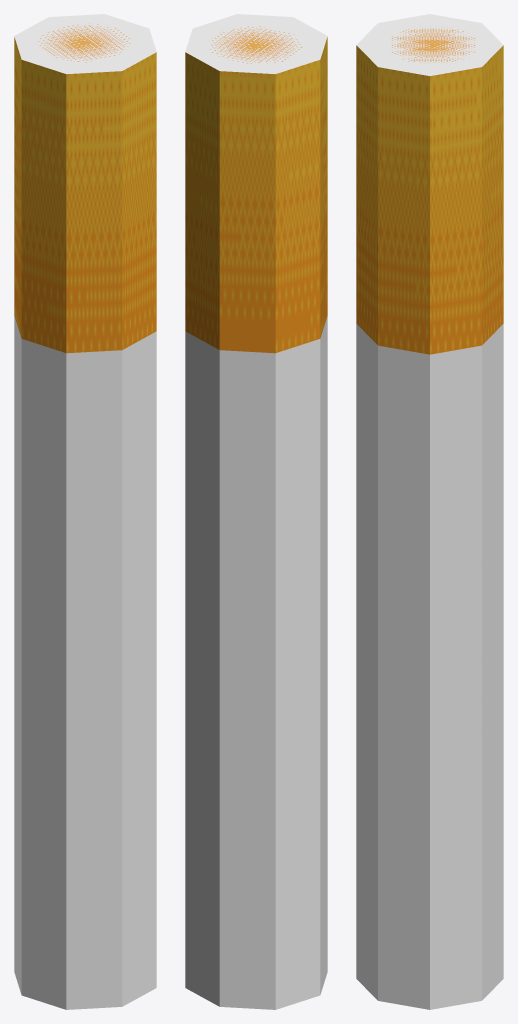
File: Cigarette.fbx
3 renders of one model, left to right at view 1: azimuth 30°, elevation 25°; view 2: azimuth 150°, elevation 25°; view 3: azimuth 270°, elevation 25°, orthographic.
Parts seen in each view (by area): view 1: Cylinder; view 2: Cylinder; view 3: Cylinder.
Part boxes in pixels (<box>): Cylinder: <box>14,14,156,1009</box>; Cylinder: <box>185,14,327,1009</box>; Cylinder: <box>356,14,503,1009</box>.
Bounding box in the file's own units: 2 × 14 × 2.
